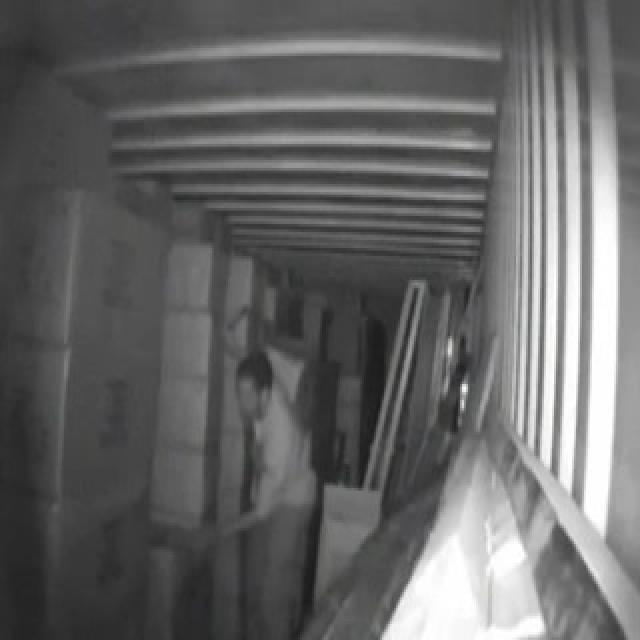thief: (202, 342, 318, 620)
